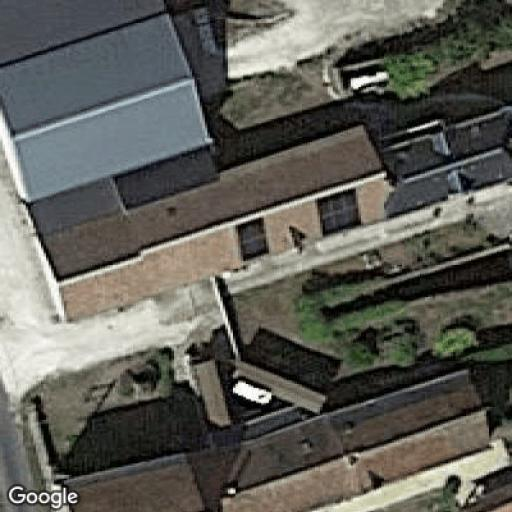solar-panel: (313, 188, 367, 236), (233, 220, 272, 261)
